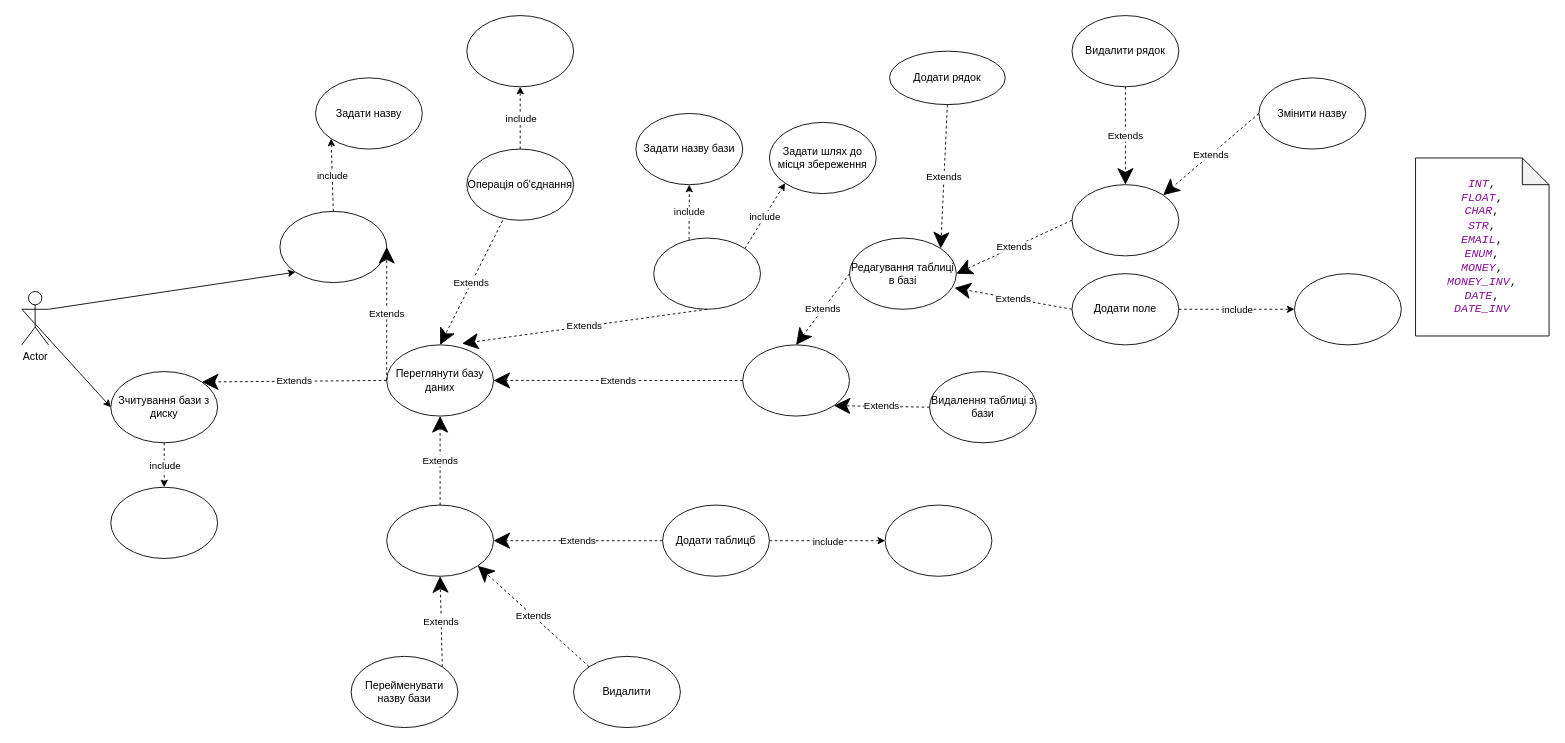
Image size: 1565x743. Some labels were removed from this diagram. Each missing label, with the box of its shape:
Задати назву таблиці та поля: (884, 504, 992, 576)
Задати тип: (1294, 273, 1401, 345)
Задати шлях до бази: (110, 486, 218, 558)
Збереження бази на диск: (653, 237, 761, 309)
Обрати таблиці для об'єднання: (466, 15, 574, 87)
Перегляд таблиці в базі: (742, 344, 850, 416)
Редагувати БД: (386, 504, 494, 576)
Редагувати рядок: (1071, 184, 1179, 256)
Створення бази даних: (279, 210, 387, 283)
